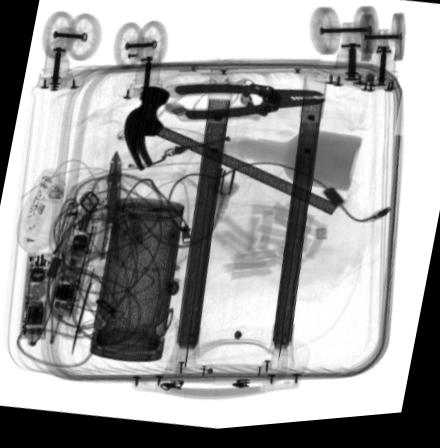Hammer: (121, 88, 337, 221)
Pliers: (163, 83, 325, 126)
Scissors: (43, 154, 148, 351)
